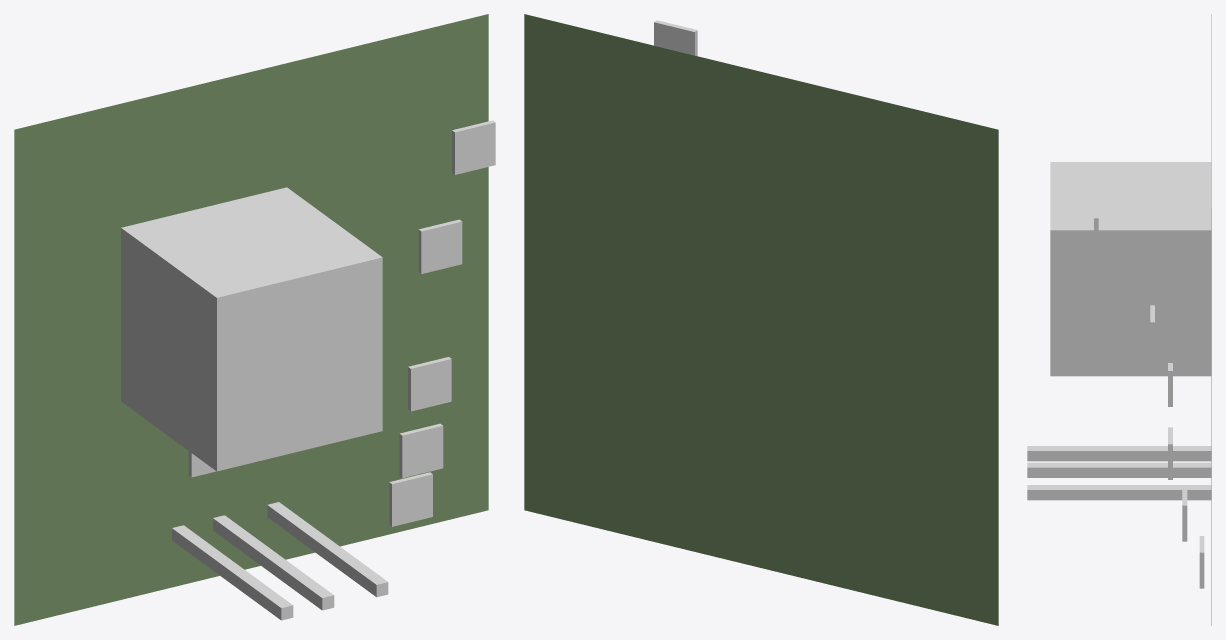
File: game7_testmap00.glb
The picture shows the model from 3 angles, left to right: view 1: azimuth 30°, elevation 25°; view 2: azimuth 150°, elevation 25°; view 3: azimuth 270°, elevation 25°; orthographic projection. The views are drawn at different scales.
Parts seen in each view (by area): view 1: white cube, green cube, green cube.004, green cube.001, green cube.003, green cube.006, green cube.007, green cube.005, green cube.008, green cube.017; view 2: white cube, green cube.008; view 3: green cube, green cube.004, green cube.001, green cube.003, white cube, green cube.017, green cube.006.
Part boxes in pixels (bbox=[...]): white cube: bbox=[14, 14, 488, 625]; green cube: bbox=[121, 187, 382, 471]; green cube.004: bbox=[267, 502, 388, 597]; green cube.001: bbox=[172, 525, 293, 620]; green cube.003: bbox=[213, 515, 334, 610]; green cube.006: bbox=[399, 423, 443, 478]; green cube.007: bbox=[418, 219, 462, 273]; green cube.005: bbox=[408, 357, 451, 411]; green cube.008: bbox=[452, 120, 495, 174]; green cube.017: bbox=[389, 472, 432, 526]; white cube: bbox=[524, 14, 998, 625]; green cube.008: bbox=[654, 20, 697, 55]; green cube: bbox=[1050, 162, 1211, 376]; green cube.004: bbox=[1027, 485, 1211, 500]; green cube.001: bbox=[1027, 446, 1211, 461]; green cube.003: bbox=[1027, 462, 1211, 477]; white cube: bbox=[1211, 14, 1211, 625]; green cube.017: bbox=[1199, 536, 1204, 588]; green cube.006: bbox=[1182, 489, 1187, 541].
Bounding box in the file's own units: 40 × 40 × 16.01.
